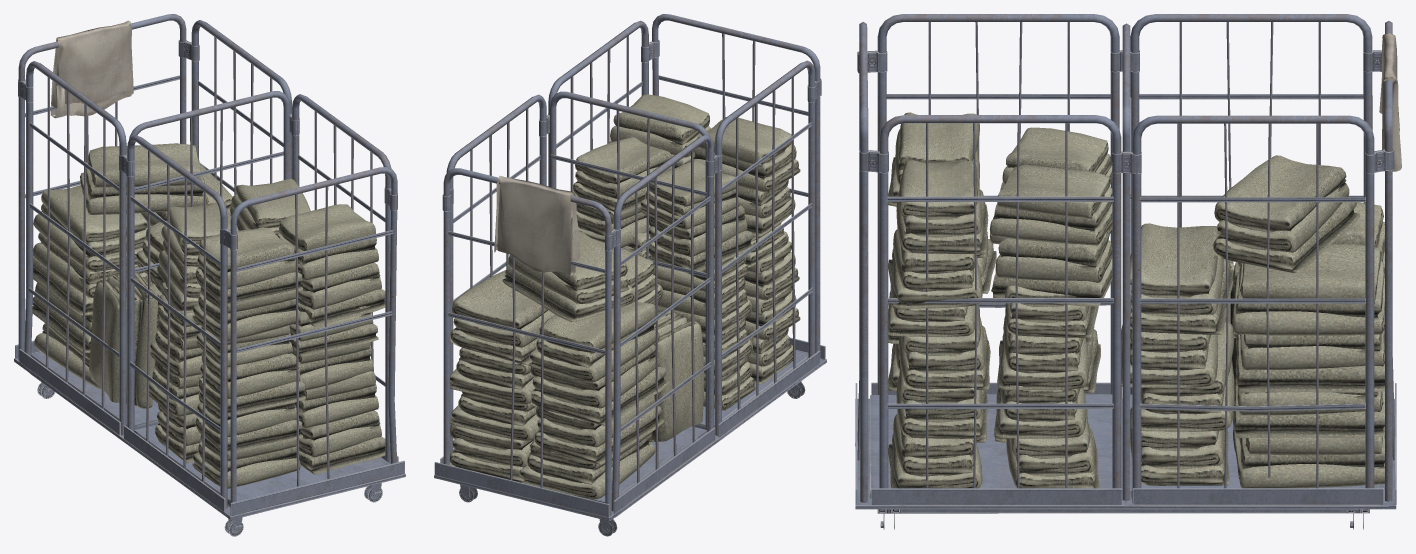
File: sm39_034_transportcartset01a.fbx
3 renders of one model, left to right at view 1: azimuth 30°, elevation 25°; view 2: azimuth 150°, elevation 25°; view 3: azimuth 270°, elevation 25°, orthographic. The views are drawn at different scales.
Visible parts, largest first — view 1: LOD_1_Group_0_Sub_1__sm36_029_BathTowel01A_A_Mat, LOD_1_Group_0_Sub_3__sm36_035_TableCloth03B_A_Mat, LOD_1_Group_19_Sub_1__sm30_086_TransportCart01A_A_Mat, LOD_1_Group_20_Sub_1__sm30_086_TransportCart01A_A_Mat, LOD_1_Group_13_Sub_1__sm30_086_TransportCart01A_A_Mat, LOD_1_Group_23_Sub_1__sm30_086_TransportCart01A_A_Mat, LOD_1_Group_22_Sub_1__sm30_086_TransportCart01A_A_Mat, LOD_1_Group_17_Sub_1__sm30_086_TransportCart01A_A_Mat, LOD_1_Group_16_Sub_1__sm30_086_TransportCart01A_A_Mat, LOD_1_Group_24_Sub_1__sm30_086_TransportCart01A_A_Mat, LOD_1_Group_21_Sub_1__sm30_086_TransportCart01A_A_Mat, LOD_1_Group_18_Sub_1__sm30_086_TransportCart01A_A_Mat (+22 smaller); view 2: LOD_1_Group_0_Sub_1__sm36_029_BathTowel01A_A_Mat, LOD_1_Group_0_Sub_3__sm36_035_TableCloth03B_A_Mat, LOD_1_Group_20_Sub_1__sm30_086_TransportCart01A_A_Mat, LOD_1_Group_19_Sub_1__sm30_086_TransportCart01A_A_Mat, LOD_1_Group_23_Sub_1__sm30_086_TransportCart01A_A_Mat, LOD_1_Group_13_Sub_1__sm30_086_TransportCart01A_A_Mat, LOD_1_Group_25_Sub_1__sm30_086_TransportCart01A_A_Mat, LOD_1_Group_24_Sub_1__sm30_086_TransportCart01A_A_Mat, LOD_1_Group_21_Sub_1__sm30_086_TransportCart01A_A_Mat, LOD_1_Group_50_Sub_1__sm30_086_TransportCart01A_A_Mat, LOD_1_Group_29_Sub_1__sm30_086_TransportCart01A_A_Mat, LOD_1_Group_28_Sub_1__sm30_086_TransportCart01A_A_Mat (+22 smaller); view 3: LOD_1_Group_0_Sub_1__sm36_029_BathTowel01A_A_Mat, LOD_1_Group_22_Sub_1__sm30_086_TransportCart01A_A_Mat, LOD_1_Group_21_Sub_1__sm30_086_TransportCart01A_A_Mat, LOD_1_Group_17_Sub_1__sm30_086_TransportCart01A_A_Mat, LOD_1_Group_19_Sub_1__sm30_086_TransportCart01A_A_Mat, LOD_1_Group_27_Sub_1__sm30_086_TransportCart01A_A_Mat, LOD_1_Group_26_Sub_1__sm30_086_TransportCart01A_A_Mat, LOD_1_Group_13_Sub_1__sm30_086_TransportCart01A_A_Mat, LOD_1_Group_24_Sub_1__sm30_086_TransportCart01A_A_Mat, LOD_1_Group_50_Sub_1__sm30_086_TransportCart01A_A_Mat, LOD_1_Group_20_Sub_1__sm30_086_TransportCart01A_A_Mat, LOD_1_Group_23_Sub_1__sm30_086_TransportCart01A_A_Mat (+19 smaller).
Boxes of the visible parts, bbox=[...] form: LOD_1_Group_0_Sub_1__sm36_029_BathTowel01A_A_Mat: bbox=[32, 143, 385, 488]; LOD_1_Group_0_Sub_3__sm36_035_TableCloth03B_A_Mat: bbox=[50, 20, 133, 118]; LOD_1_Group_19_Sub_1__sm30_086_TransportCart01A_A_Mat: bbox=[127, 135, 227, 509]; LOD_1_Group_20_Sub_1__sm30_086_TransportCart01A_A_Mat: bbox=[24, 61, 126, 435]; LOD_1_Group_13_Sub_1__sm30_086_TransportCart01A_A_Mat: bbox=[230, 167, 397, 502]; LOD_1_Group_23_Sub_1__sm30_086_TransportCart01A_A_Mat: bbox=[18, 14, 186, 360]; LOD_1_Group_22_Sub_1__sm30_086_TransportCart01A_A_Mat: bbox=[292, 94, 391, 463]; LOD_1_Group_17_Sub_1__sm30_086_TransportCart01A_A_Mat: bbox=[134, 424, 389, 507]; LOD_1_Group_16_Sub_1__sm30_086_TransportCart01A_A_Mat: bbox=[230, 460, 404, 516]; LOD_1_Group_24_Sub_1__sm30_086_TransportCart01A_A_Mat: bbox=[129, 91, 289, 429]; LOD_1_Group_21_Sub_1__sm30_086_TransportCart01A_A_Mat: bbox=[191, 20, 291, 178]; LOD_1_Group_18_Sub_1__sm30_086_TransportCart01A_A_Mat: bbox=[31, 351, 159, 429]; LOD_1_Group_0_Sub_1__sm36_029_BathTowel01A_A_Mat: bbox=[449, 94, 800, 499]; LOD_1_Group_0_Sub_3__sm36_035_TableCloth03B_A_Mat: bbox=[494, 176, 580, 276]; LOD_1_Group_20_Sub_1__sm30_086_TransportCart01A_A_Mat: bbox=[611, 135, 714, 511]; LOD_1_Group_19_Sub_1__sm30_086_TransportCart01A_A_Mat: bbox=[715, 60, 815, 435]; LOD_1_Group_23_Sub_1__sm30_086_TransportCart01A_A_Mat: bbox=[443, 168, 611, 515]; LOD_1_Group_13_Sub_1__sm30_086_TransportCart01A_A_Mat: bbox=[652, 14, 820, 352]; LOD_1_Group_25_Sub_1__sm30_086_TransportCart01A_A_Mat: bbox=[434, 462, 609, 517]; LOD_1_Group_24_Sub_1__sm30_086_TransportCart01A_A_Mat: bbox=[550, 91, 710, 429]; LOD_1_Group_21_Sub_1__sm30_086_TransportCart01A_A_Mat: bbox=[446, 94, 546, 465]; LOD_1_Group_50_Sub_1__sm30_086_TransportCart01A_A_Mat: bbox=[434, 358, 826, 521]; LOD_1_Group_29_Sub_1__sm30_086_TransportCart01A_A_Mat: bbox=[613, 427, 715, 514]; LOD_1_Group_28_Sub_1__sm30_086_TransportCart01A_A_Mat: bbox=[718, 351, 820, 437]; LOD_1_Group_0_Sub_1__sm36_029_BathTowel01A_A_Mat: bbox=[888, 112, 1384, 488]; LOD_1_Group_22_Sub_1__sm30_086_TransportCart01A_A_Mat: bbox=[879, 115, 1121, 488]; LOD_1_Group_21_Sub_1__sm30_086_TransportCart01A_A_Mat: bbox=[1132, 115, 1374, 502]; LOD_1_Group_17_Sub_1__sm30_086_TransportCart01A_A_Mat: bbox=[870, 394, 1112, 500]; LOD_1_Group_19_Sub_1__sm30_086_TransportCart01A_A_Mat: bbox=[877, 14, 1119, 394]; LOD_1_Group_27_Sub_1__sm30_086_TransportCart01A_A_Mat: bbox=[871, 488, 1122, 505]; LOD_1_Group_26_Sub_1__sm30_086_TransportCart01A_A_Mat: bbox=[1133, 488, 1383, 505]; LOD_1_Group_13_Sub_1__sm30_086_TransportCart01A_A_Mat: bbox=[859, 22, 868, 502]; LOD_1_Group_24_Sub_1__sm30_086_TransportCart01A_A_Mat: bbox=[1122, 23, 1130, 500]; LOD_1_Group_50_Sub_1__sm30_086_TransportCart01A_A_Mat: bbox=[855, 398, 1396, 509]; LOD_1_Group_20_Sub_1__sm30_086_TransportCart01A_A_Mat: bbox=[1130, 14, 1372, 394]; LOD_1_Group_23_Sub_1__sm30_086_TransportCart01A_A_Mat: bbox=[1385, 21, 1392, 501].
Bounding box in the file's own units: 1.04 × 1.97 × 2.25.
